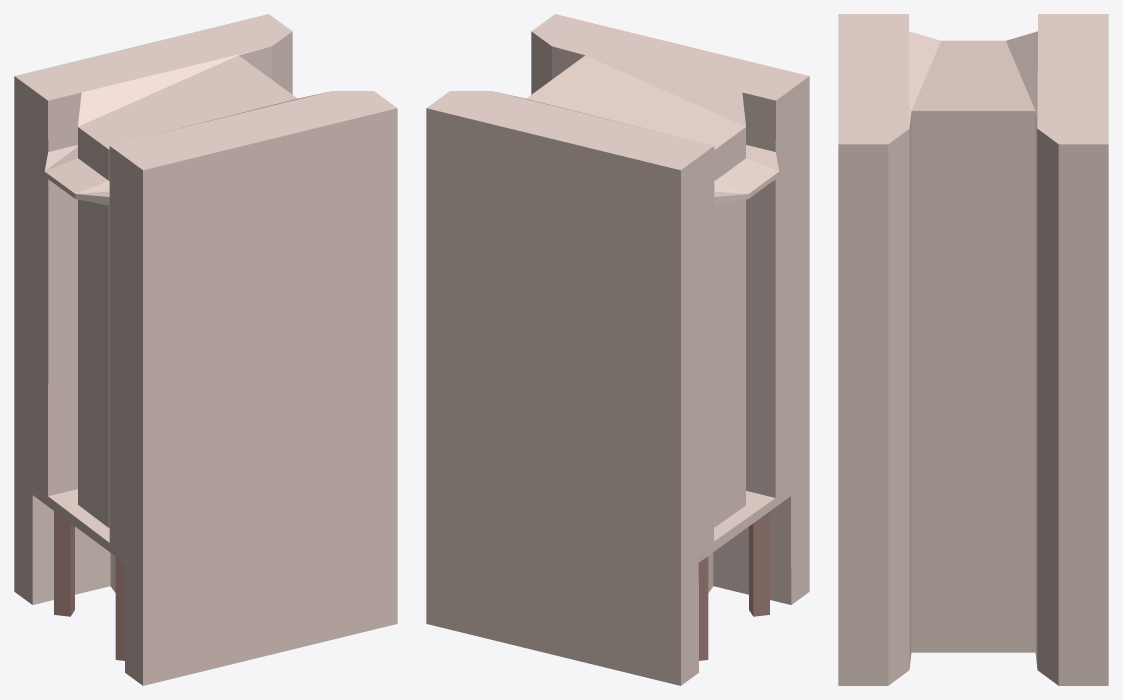
File: Edificio024.FBX
The picture shows the model from 3 angles, left to right: view 1: azimuth 30°, elevation 25°; view 2: azimuth 150°, elevation 25°; view 3: azimuth 270°, elevation 25°; orthographic projection. The views are drawn at different scales.
Visible parts, largest first — view 1: Edificio007; view 2: Edificio007; view 3: Edificio007.
Boxes of the visible parts, <box> form: Edificio007: <box>14,14,397,685</box>; Edificio007: <box>426,14,809,685</box>; Edificio007: <box>838,14,1108,685</box>.
Bounding box in the file's own units: 875 × 1578 × 714.
